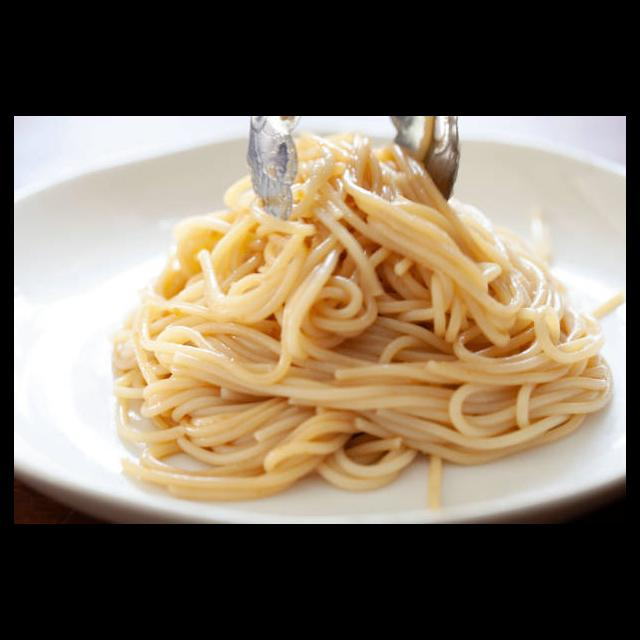noodles: (106, 133, 626, 513)
